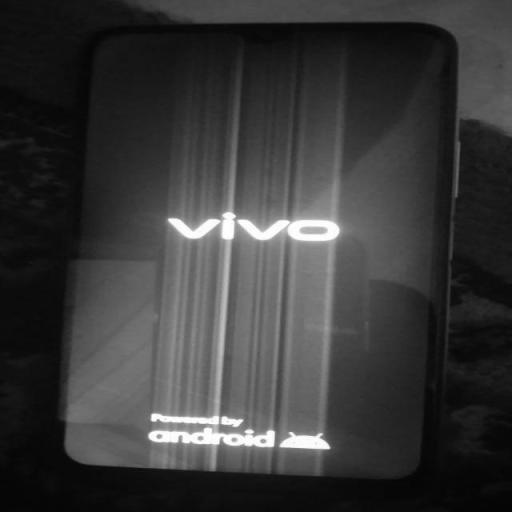phone: (55, 17, 468, 485)
